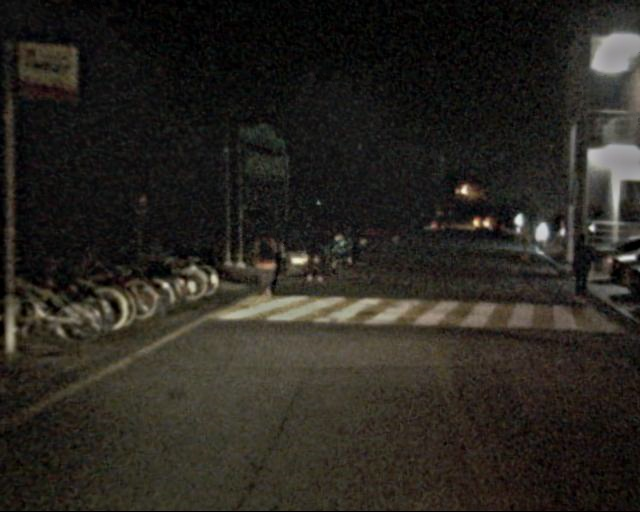person: (251, 228, 281, 301), (565, 238, 594, 308), (305, 223, 329, 282)
